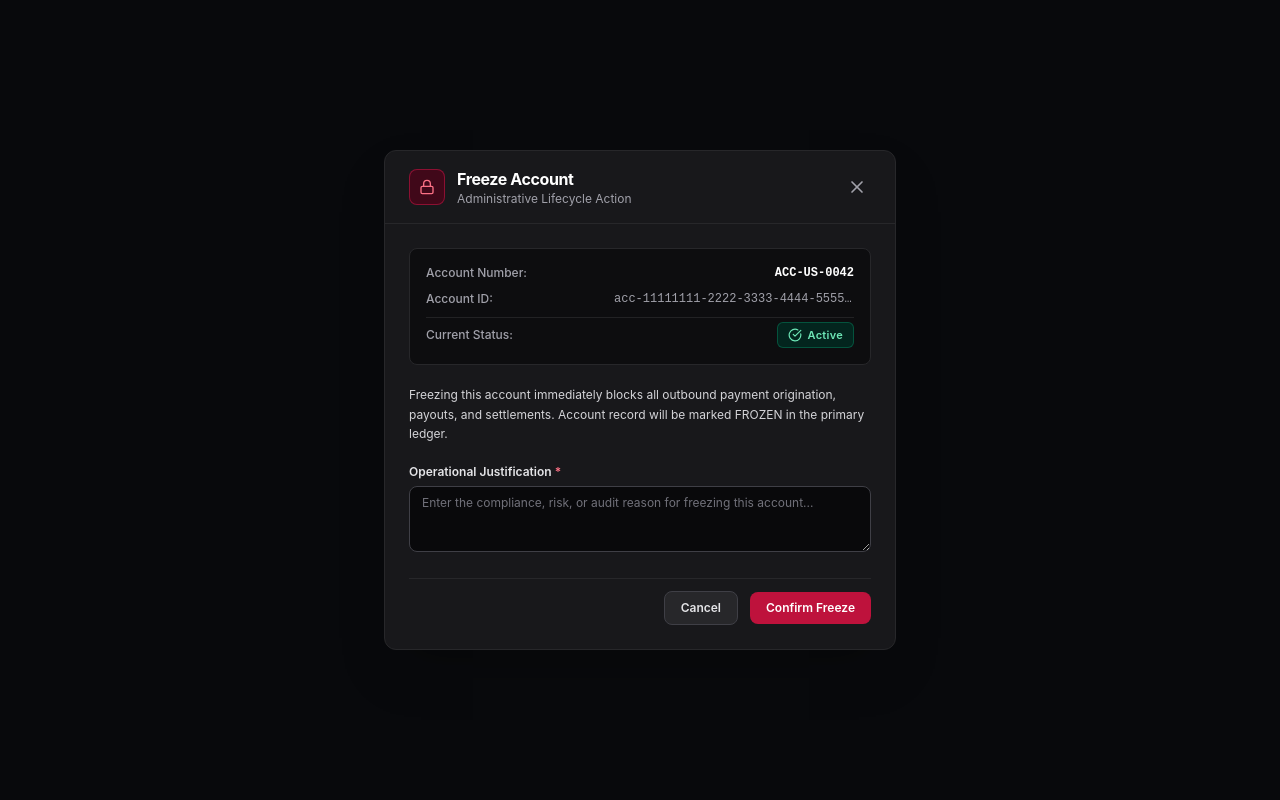
it: Admin Account Lifecycle UI (Phase F7-G-E) › Error Handling & Stale State › displays conflict error (409) when account state was already changed on server
Replace the text in the text box with test id "lifecycle-reason-input" with "Freeze attempt" at [640, 519], box left=409, top=486, right=871, bottom=552
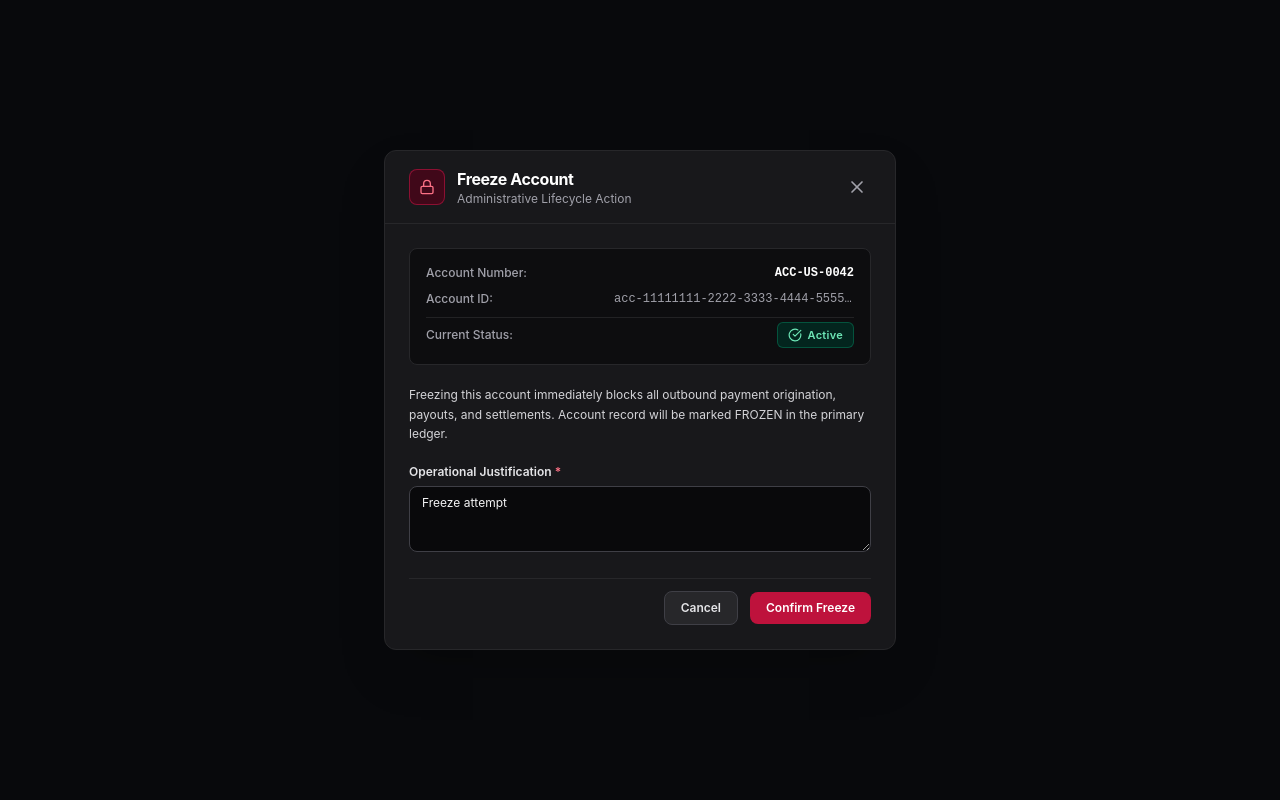
Click the button with test id "confirm-lifecycle-button" at [810, 608], box left=750, top=592, right=871, bottom=624
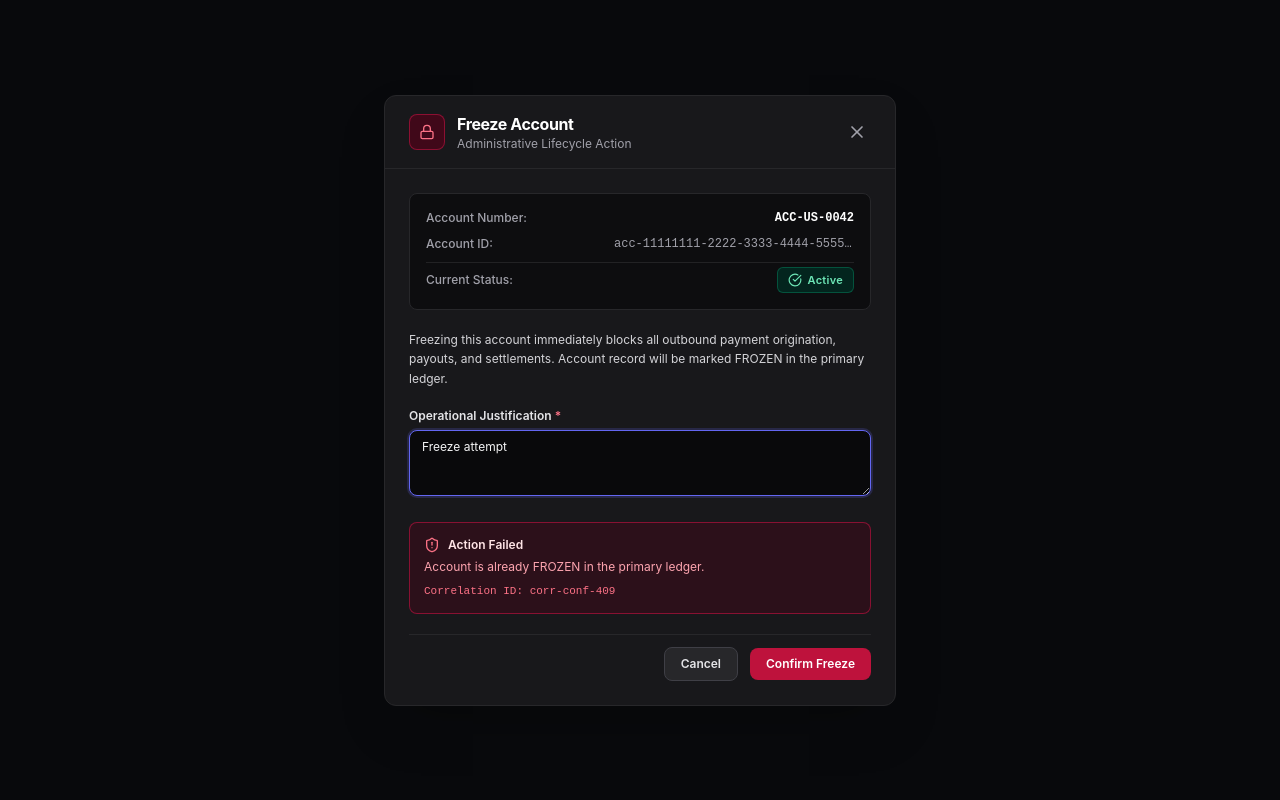
Expected: the message with test id "lifecycle-submission-error" is shown, left=409, top=522, right=871, bottom=614
Expected: the text "Account is already FROZEN in the primary ledger." is shown, left=424, top=559, right=704, bottom=574
Expected: the text "Correlation ID: corr-conf-409" is shown, left=424, top=584, right=616, bottom=596
